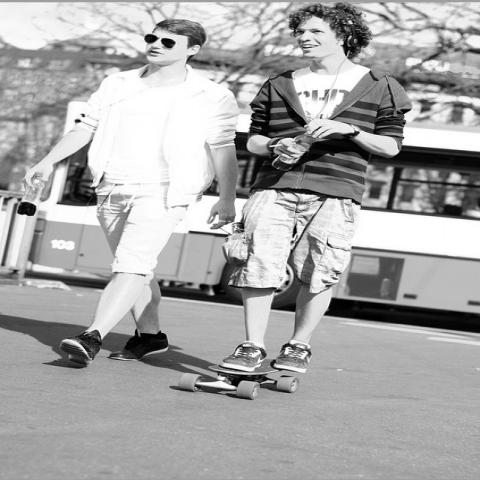bus: (34, 128, 479, 318)
